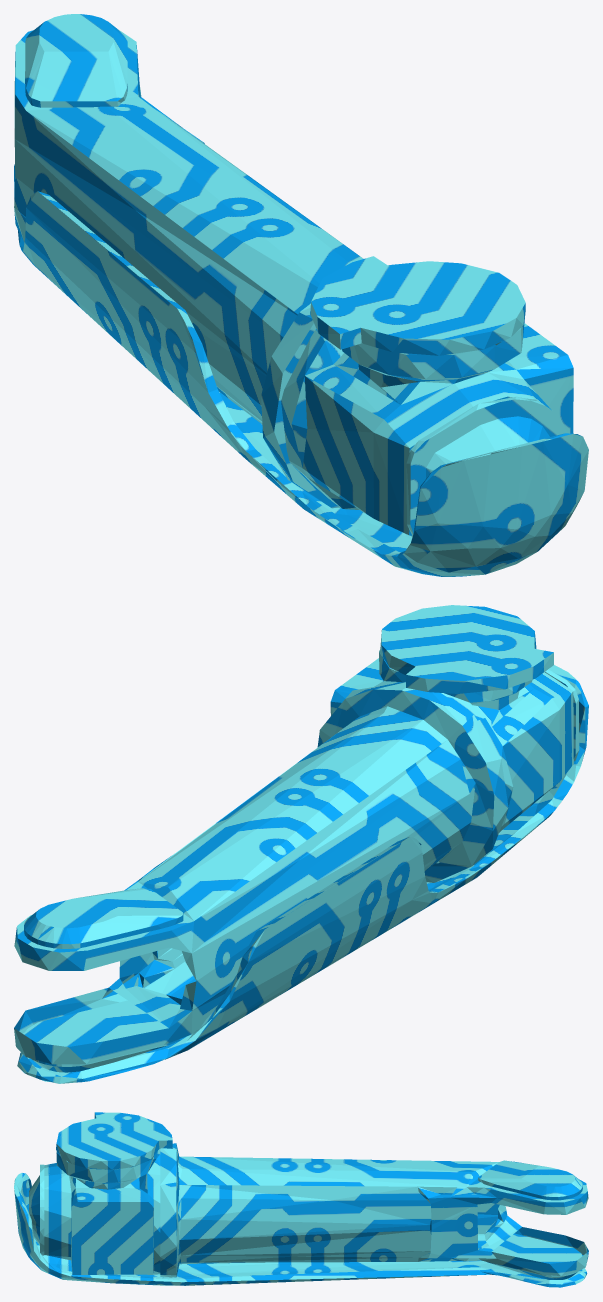
Rendered from fr.uleg.glb.
The picture shows the model from 3 angles, top to bottom: view 1: azimuth 30°, elevation 25°; view 2: azimuth 150°, elevation 25°; view 3: azimuth 270°, elevation 25°; orthographic projection. The views are drawn at different scales.
Parts seen in each view (by area): view 1: hr.uleg.005; view 2: hr.uleg.005; view 3: hr.uleg.005.
Boxes of the visible parts, <box> form: hr.uleg.005: <box>14,14,588,576</box>; hr.uleg.005: <box>14,605,588,1083</box>; hr.uleg.005: <box>14,1112,588,1287</box>.
Size of the model in its own units: 0.0987 by 0.1078 by 0.4116.
1 material, 1 textured.
